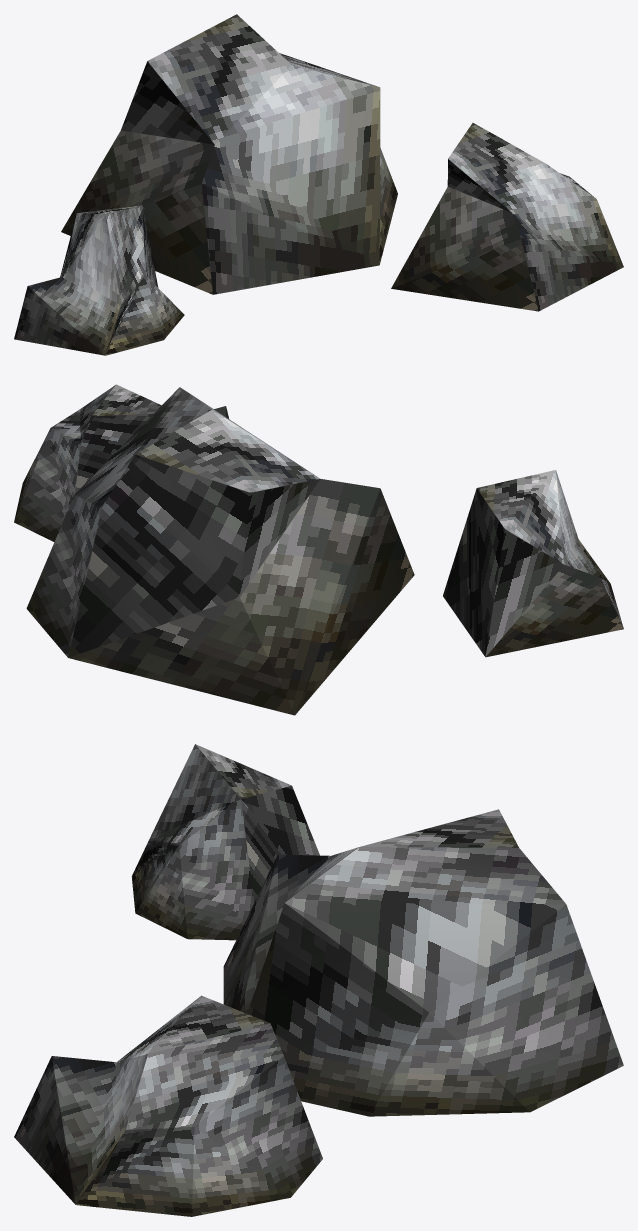
Rendered from Environment - Prop - Rock Cluster Small Snow 01 - Damaged - PMsscluster_D.glb.
3 views of the same model, one above another, from view 1: azimuth 30°, elevation 25°; view 2: azimuth 150°, elevation 25°; view 3: azimuth 270°, elevation 25° (orthographic). The views are drawn at different scales.
Parts seen in each view (by area): view 1: PMSSCLUSTER_D; view 2: PMSSCLUSTER_D; view 3: PMSSCLUSTER_D.
Boxes of the visible parts, left/top/right/bottom form: PMSSCLUSTER_D: left=14, top=14, right=623, bottom=355; PMSSCLUSTER_D: left=14, top=384, right=623, bottom=715; PMSSCLUSTER_D: left=14, top=744, right=623, bottom=1216.
Bounding box in the file's own units: 42.11 × 13.89 × 30.84.
Materials: 1 (1 with a texture image).
